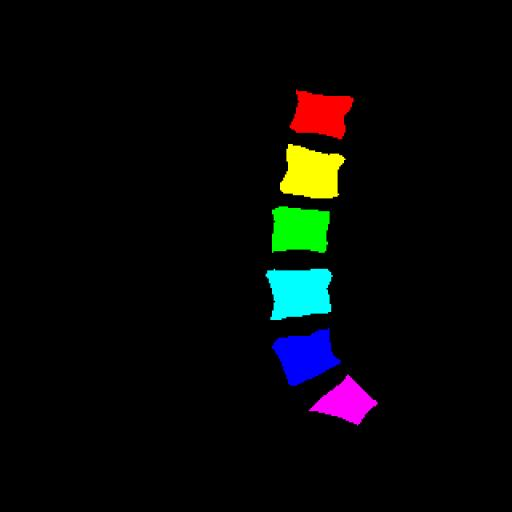L1: (290, 90, 354, 139)
L2: (280, 144, 345, 198)
L3: (272, 206, 330, 253)
L4: (266, 269, 332, 320)
L5: (272, 329, 340, 385)
S1: (309, 375, 377, 425)
